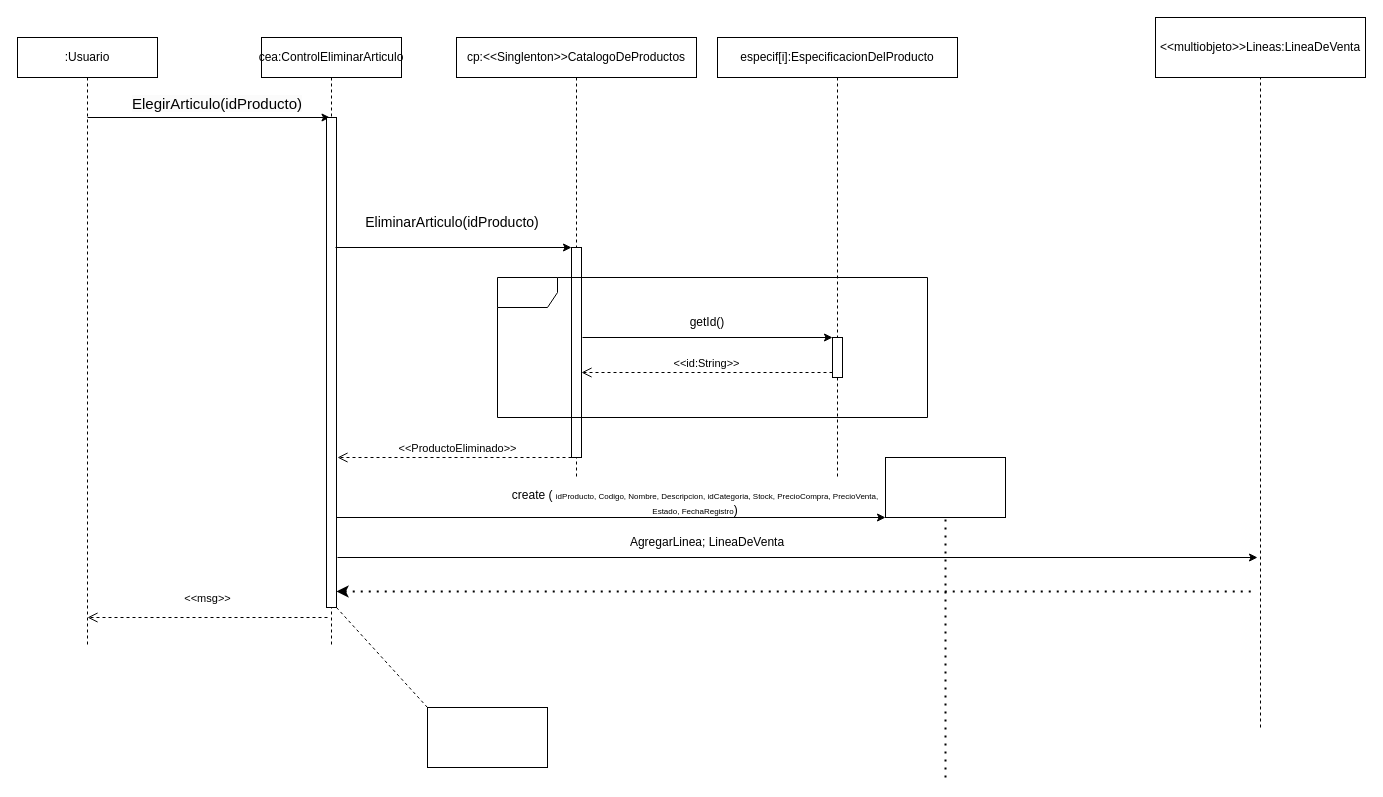
The diagram is 1383 pixels wide and 797 high, and some of its shapes have lost their labels. Here are the shapes that lost their labels. From the top down, the centre of each, then its label:
[712,347]: loop
[945,487]: lv:LineaDeVenta
[487,737]: "Producto eliminado con exito"
